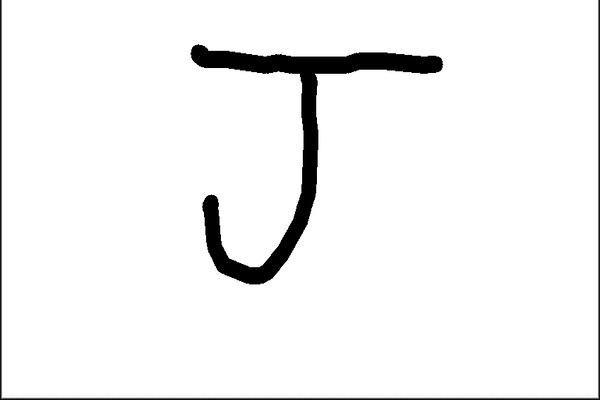J: (177, 37, 447, 318)
